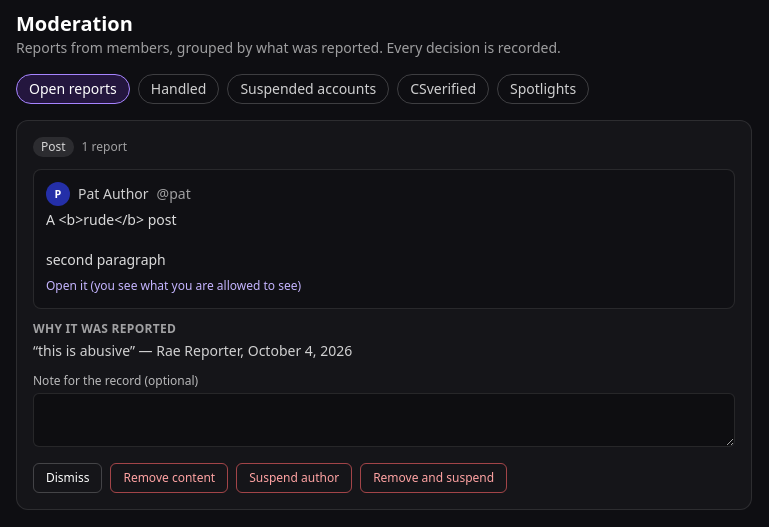
ModerationPage: CSverified badges › says when they already had it, and why a badge couldn't be given
Step 1. Click the button "CSverified" → [443, 89], box [397, 74, 489, 104]
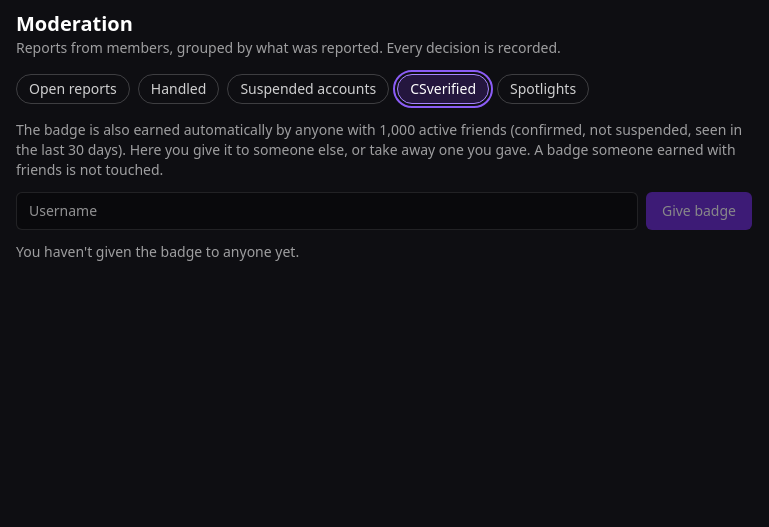
Step 2. Type "vee" into the field named "Username to give the badge to" → [327, 211], box [16, 192, 638, 230]
Then press Enter
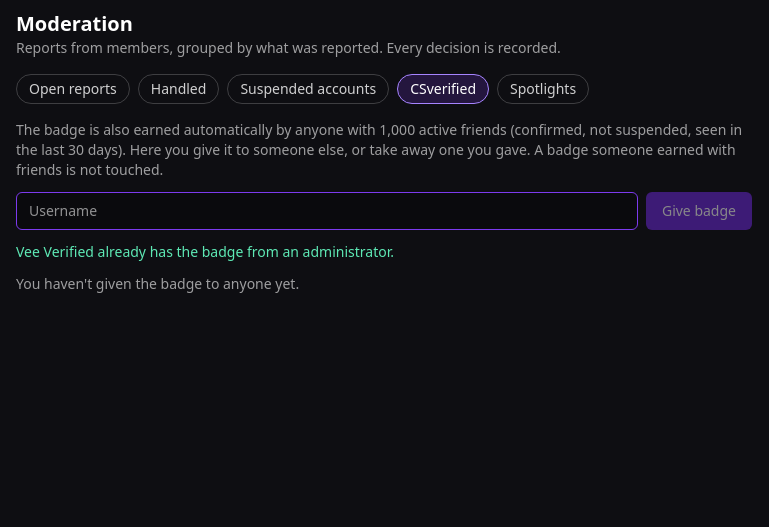
Expected: the message shows "already has the badge from an administrator", [16, 242, 394, 261]
Step 3. Type "nobody" into the field named "Username to give the badge to" → [327, 211], box [16, 192, 638, 230]
Then press Enter
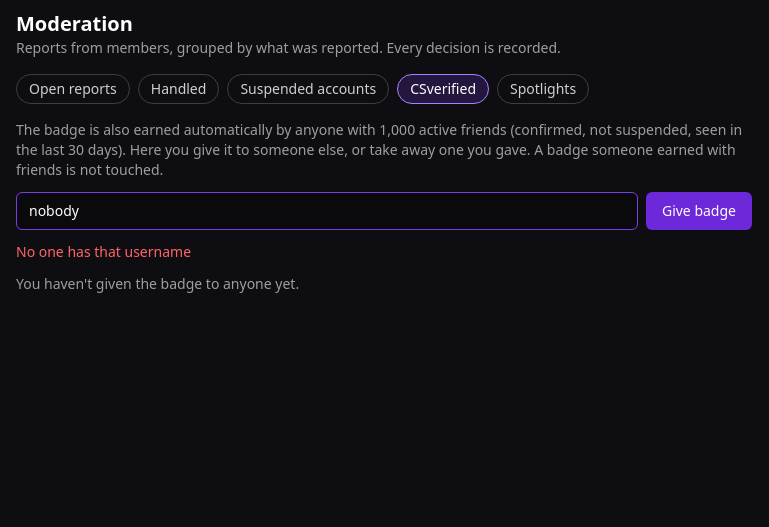
Expected: the message reads "No one has that username", [16, 242, 191, 261]
